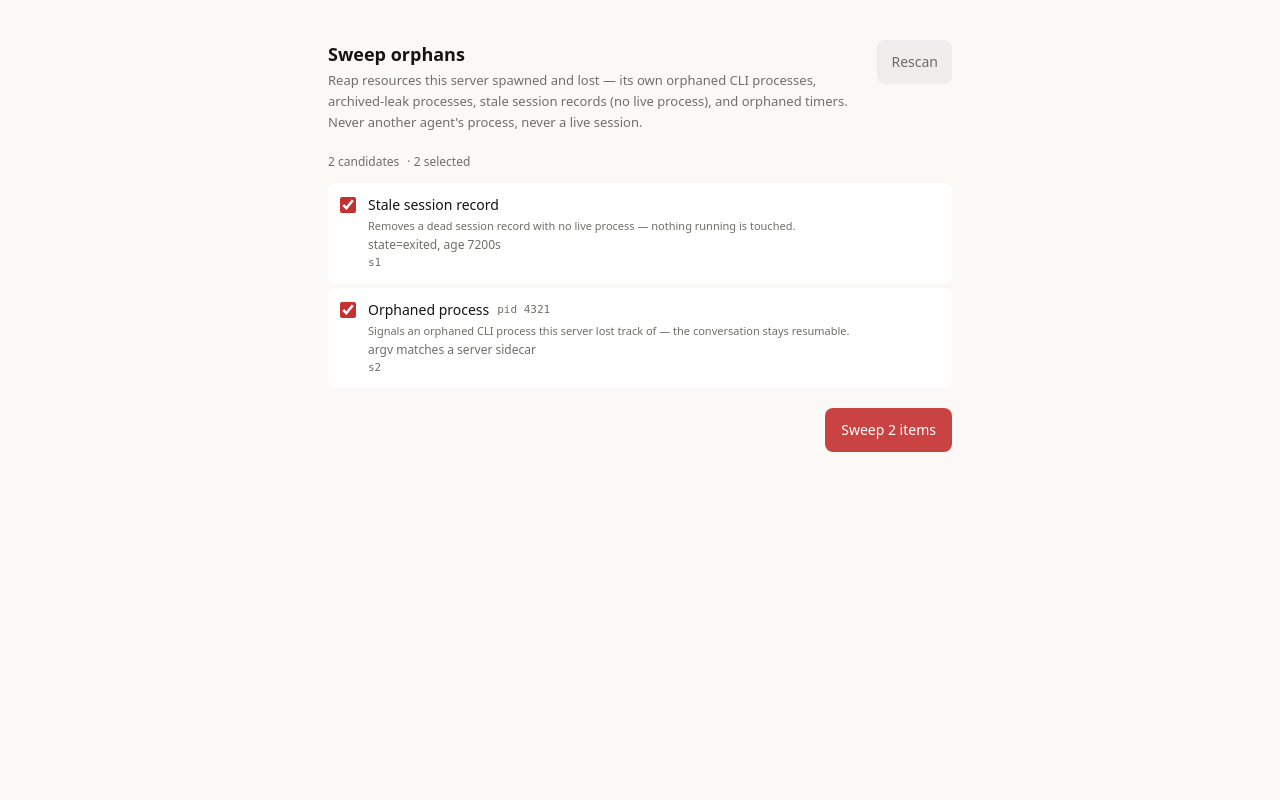
SweepPage confirm-gate behaviour › Escape closes the dialog without executing
This screenshot has width=1280, height=800.
Click the button "Sweep 2 items". click: [889, 430]
box: [825,408,952,452]
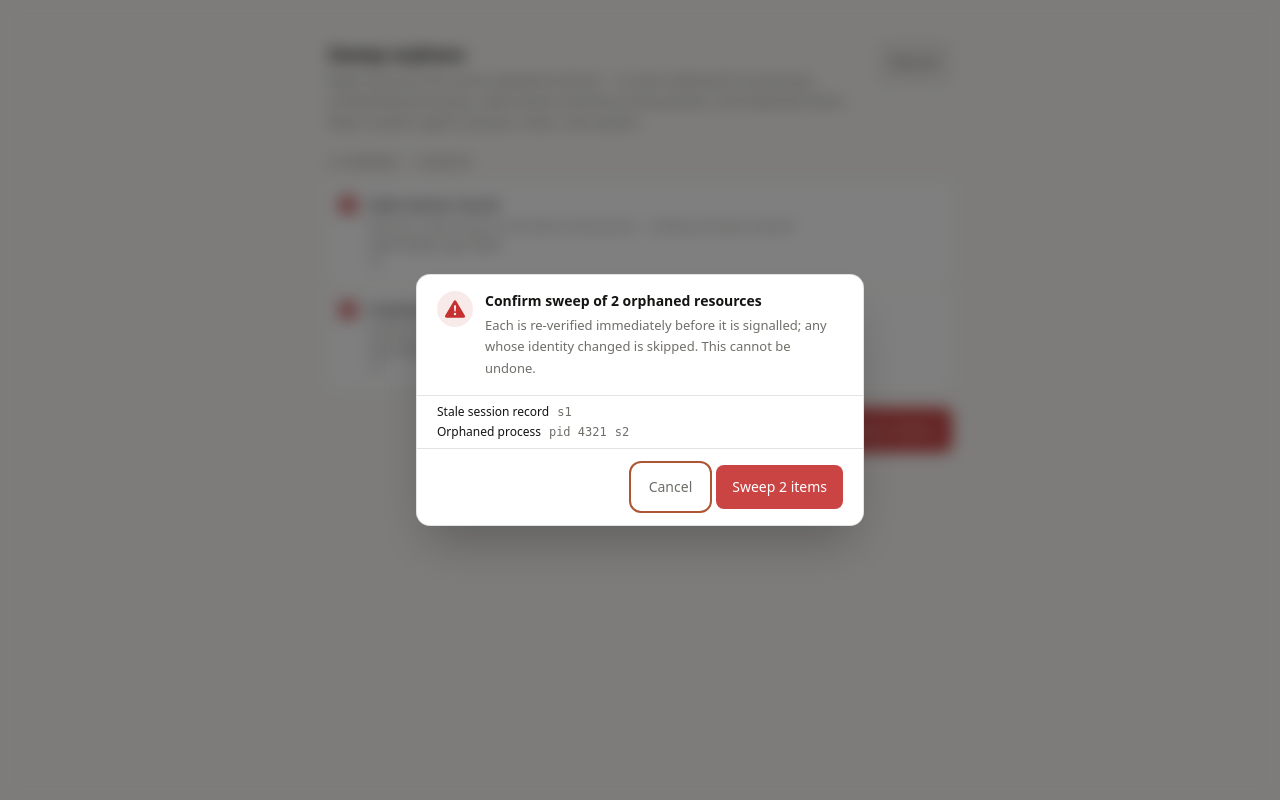
Press Escape in the dialog, box [416,274,864,526]
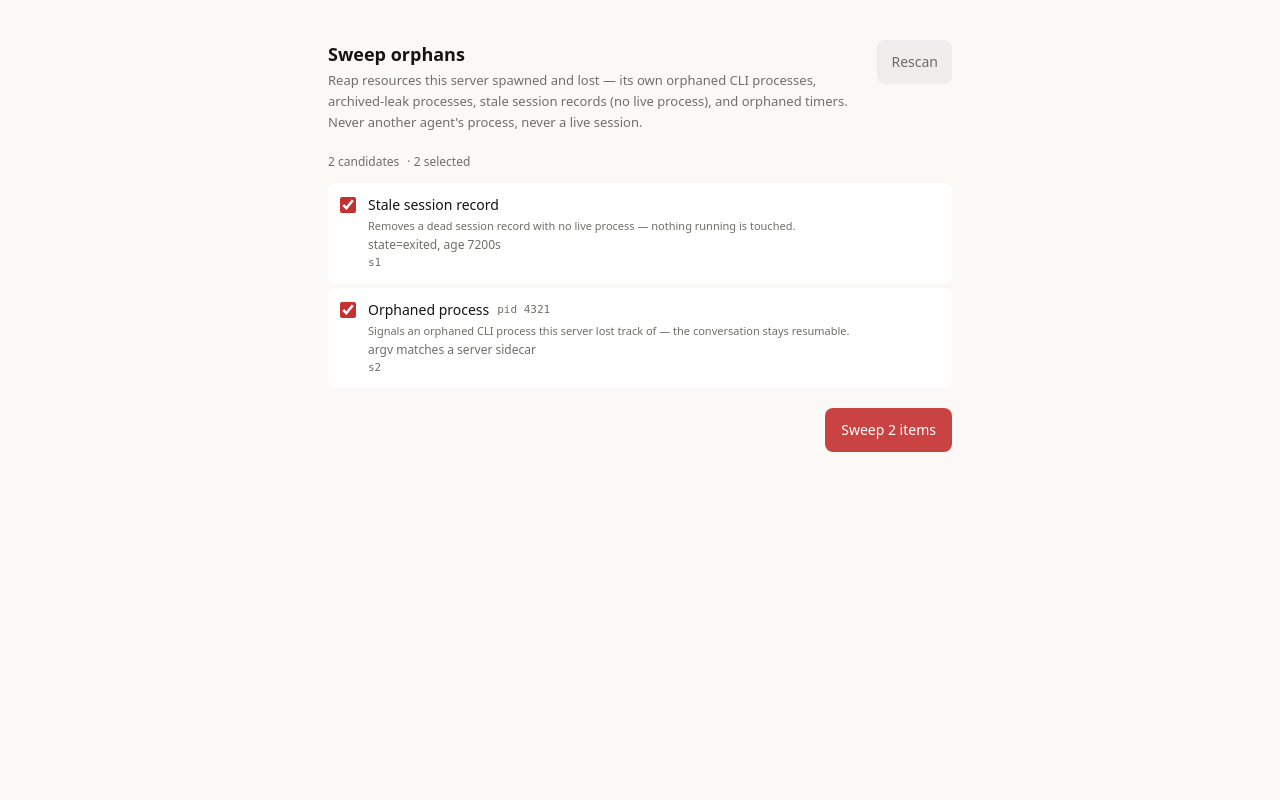
Now the dialog is gone
